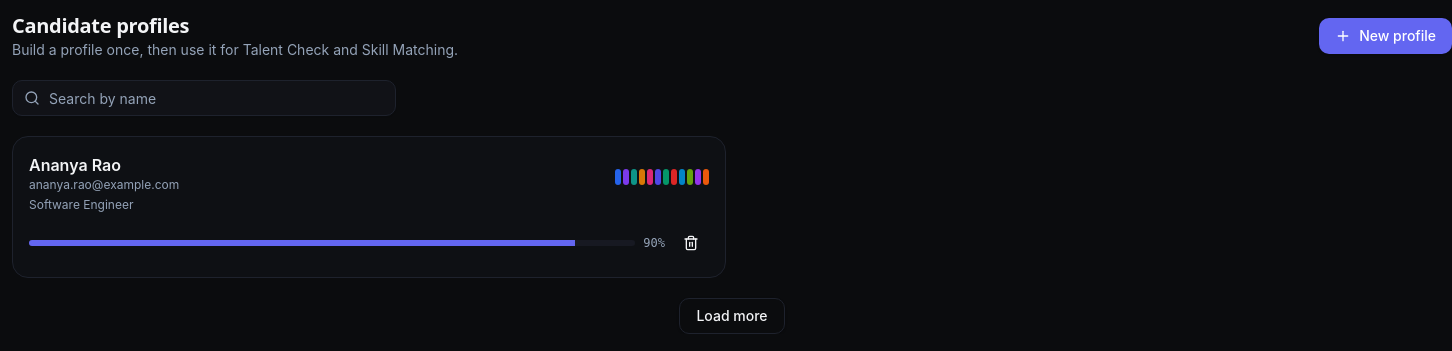
Test: ProfilesListPage › offers Load more while there is a next page
This screenshot has width=1452, height=351.
Expected: the link "Ananya Rao" is shown, x1=29 y1=155 x2=121 y2=175
Click the button "Load more": {"x": 732, "y": 316} x1=679 y1=298 x2=784 y2=334
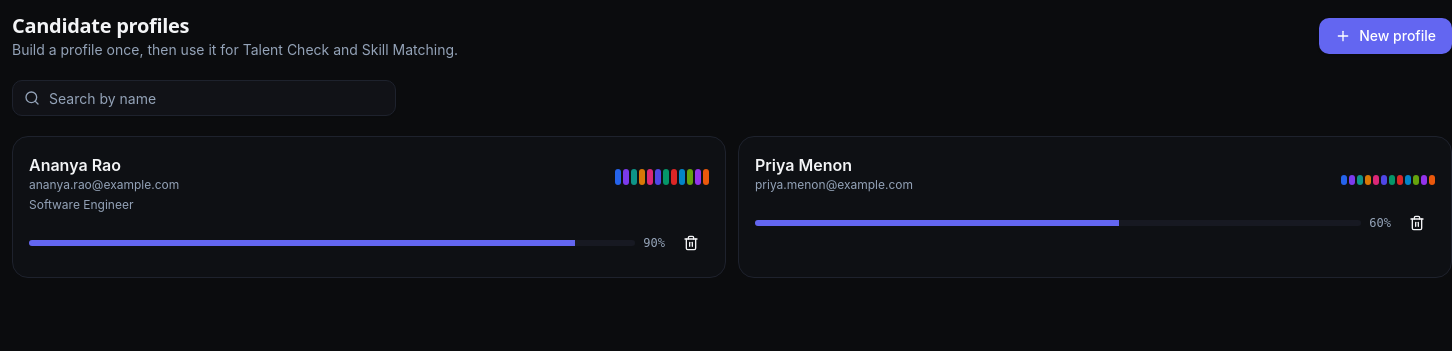
Expected: the link "Priya Menon" is shown, x1=755 y1=155 x2=852 y2=175
Expected: the button "Load more" is gone
